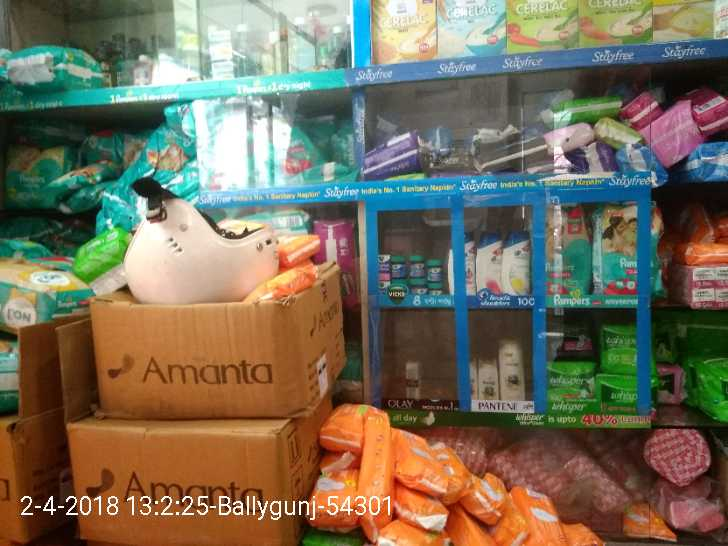vicks: (381, 253, 443, 294)
